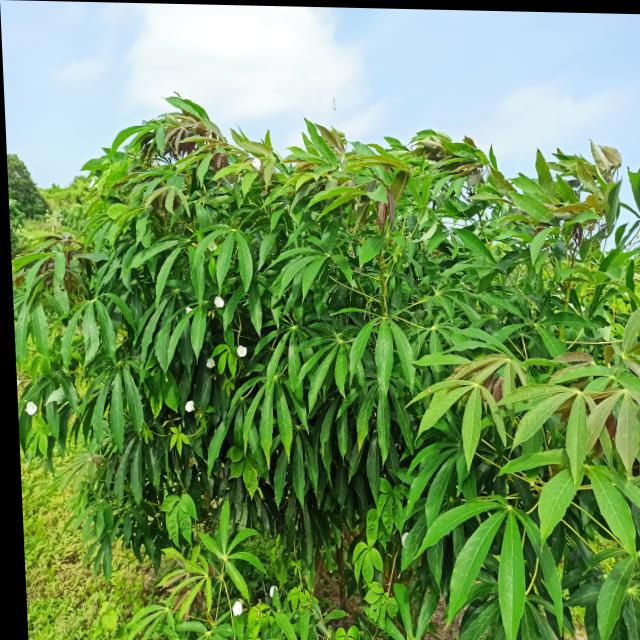Maleza: (23, 483, 91, 640), (0, 565, 139, 638), (342, 535, 385, 585), (163, 485, 196, 536), (359, 578, 390, 624), (380, 479, 407, 531), (364, 508, 394, 553)
